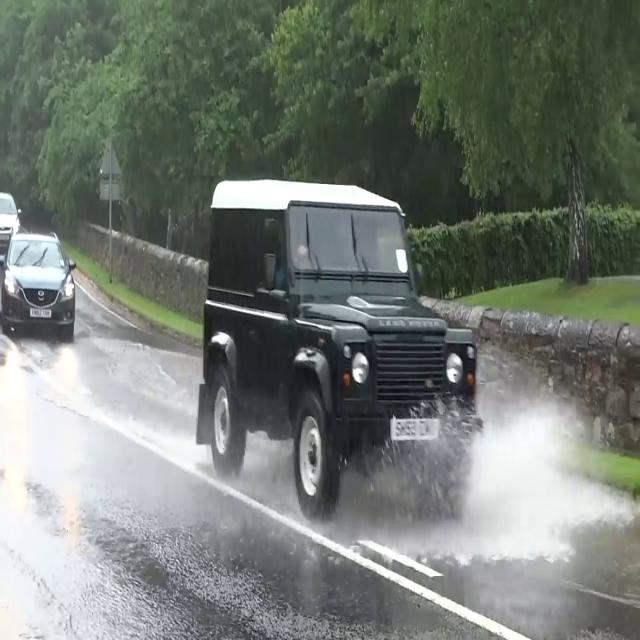license-plate-annotation: (390, 416, 439, 442)
